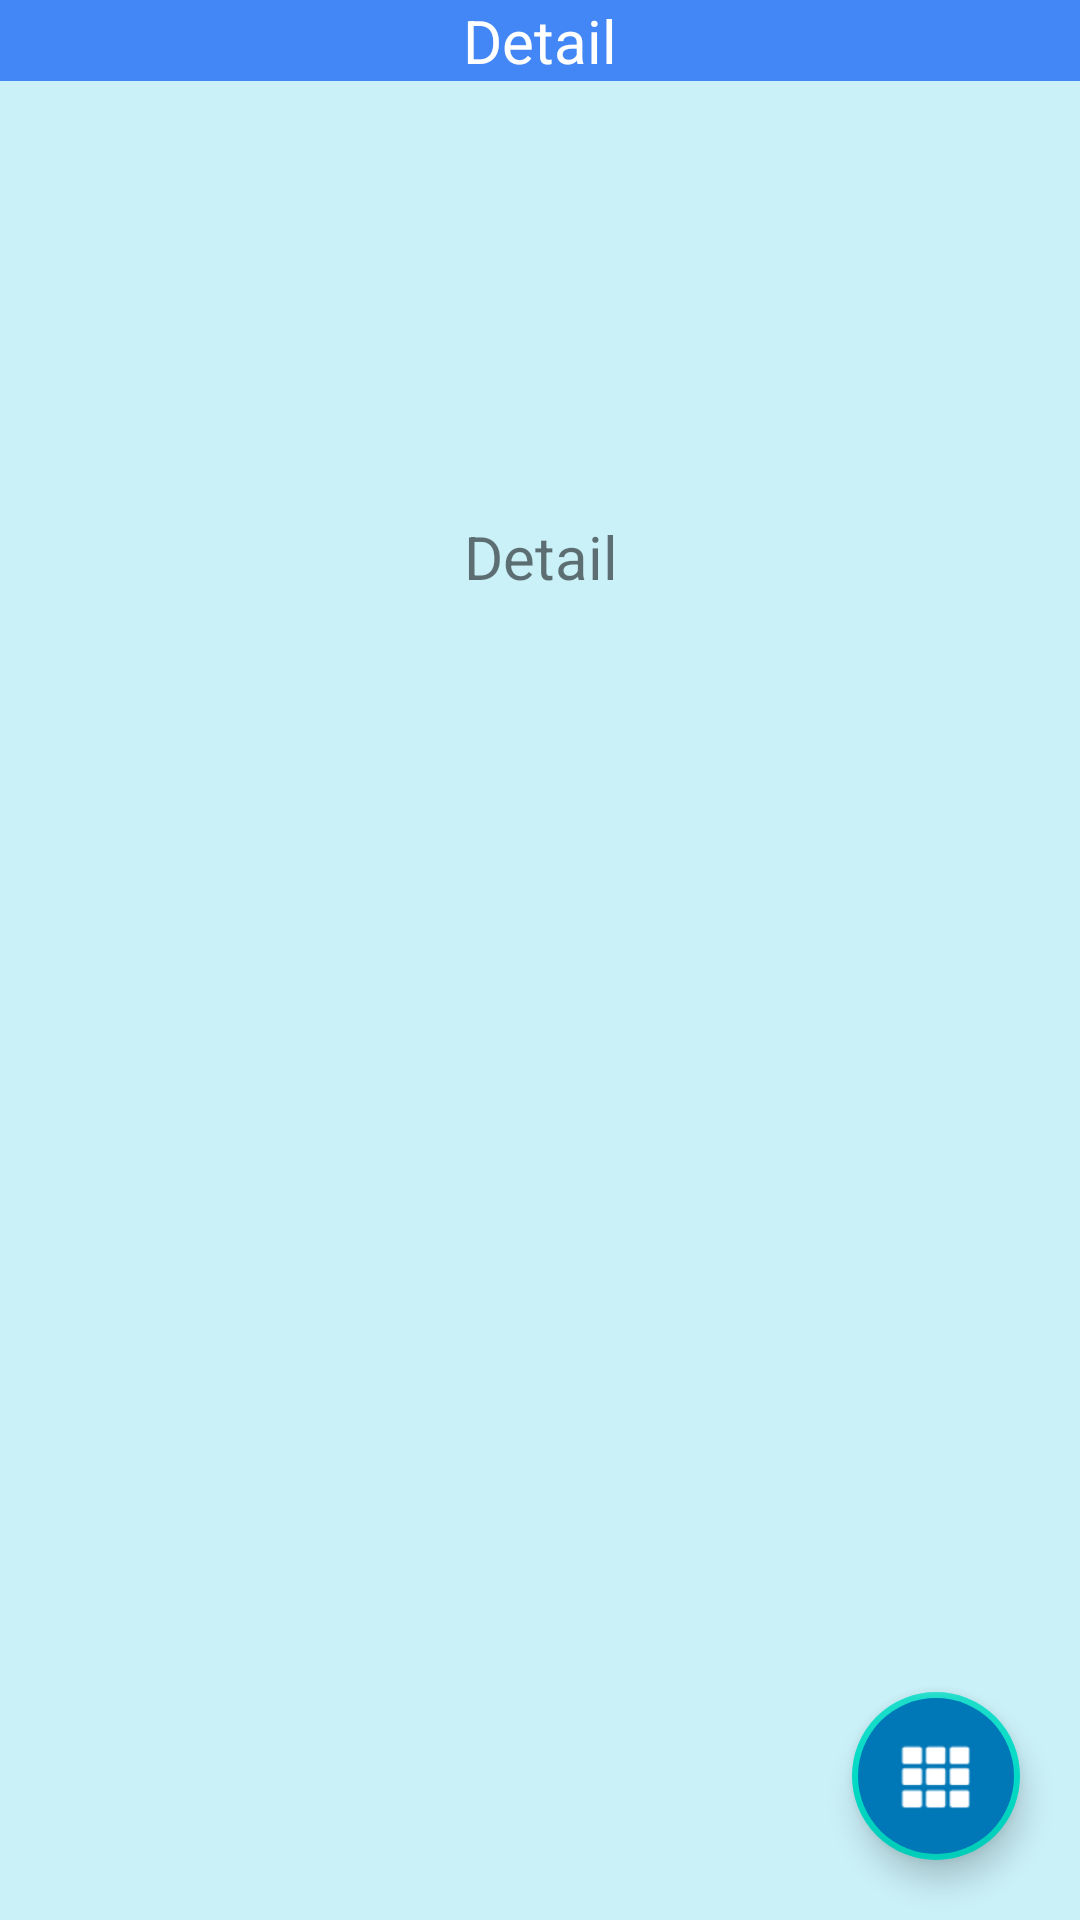

Icon bounding boxes for this 1080*1920 phone screenshot, format [x1,y1,x2,y2]:
main button: [852,1692,1020,1860]
